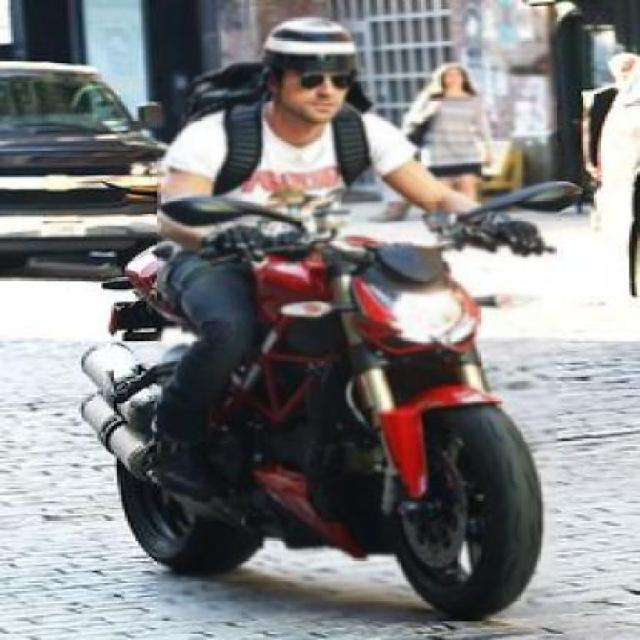helmet: (262, 18, 372, 128)
motorcycle: (99, 0, 552, 620)
